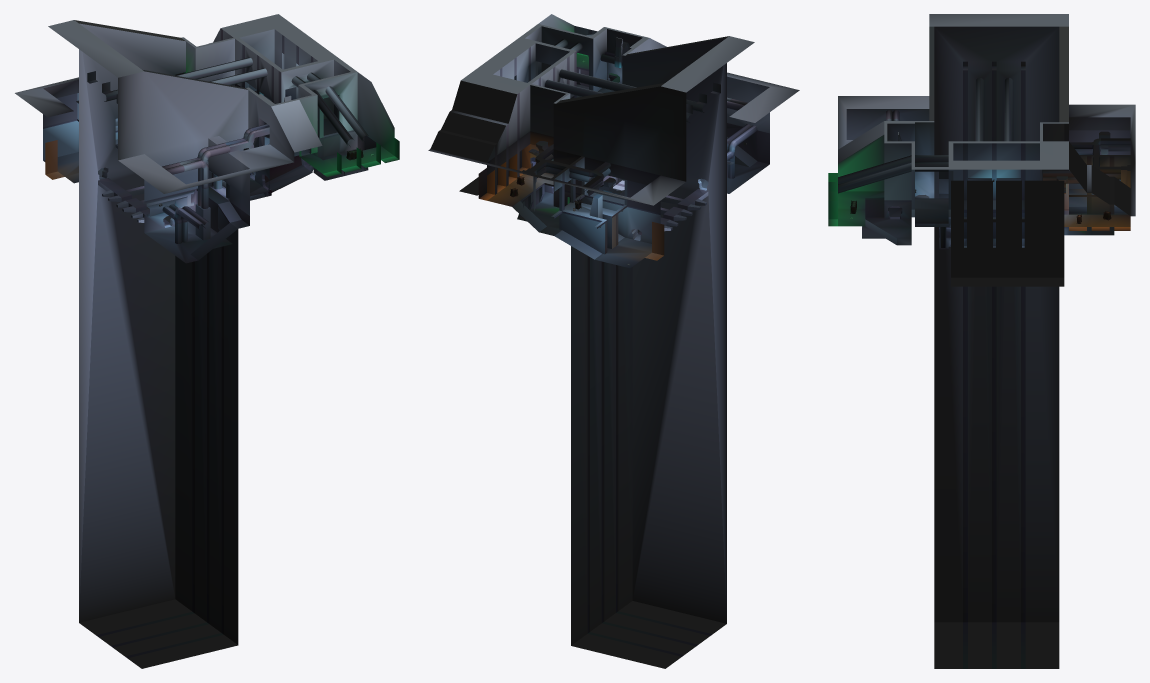
Rendered from DMN.glb.
3 views of the same model, side by side, from view 1: azimuth 30°, elevation 25°; view 2: azimuth 150°, elevation 25°; view 3: azimuth 270°, elevation 25° (orthographic). The views are drawn at different scales.
Visible parts, largest first — view 1: DMN; view 2: DMN; view 3: DMN.
Part boxes in pixels (<box>): DMN: <box>15,14,399,668</box>; DMN: <box>428,14,799,668</box>; DMN: <box>828,14,1135,668</box>.
Size of the model in its own units: 85.26 by 208 by 97.15.
